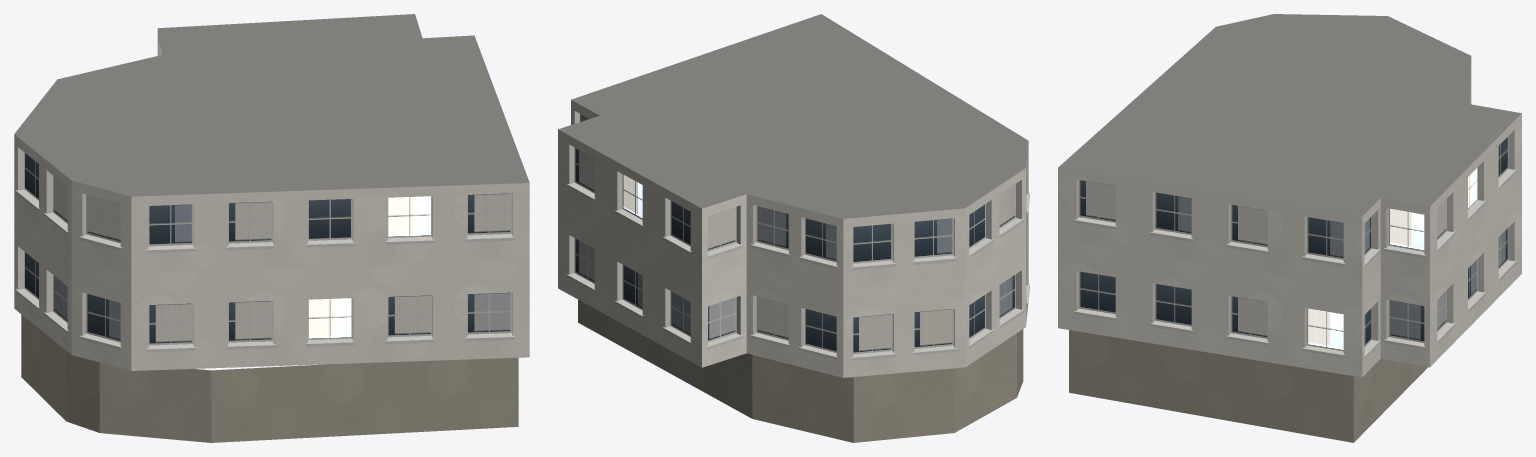
Rendered from z3b_pavilion.glb.
3 renders of one model, left to right at view 1: azimuth 30°, elevation 25°; view 2: azimuth 150°, elevation 25°; view 3: azimuth 270°, elevation 25°, orthographic. The views are drawn at different scales.
Parts seen in each view (by area): view 1: z3b_pavilion; view 2: z3b_pavilion; view 3: z3b_pavilion.
Part boxes in pixels (bbox=[...]): z3b_pavilion: bbox=[14, 14, 529, 442]; z3b_pavilion: bbox=[558, 14, 1029, 442]; z3b_pavilion: bbox=[1058, 14, 1521, 442].
Size of the model in its own units: 19.56 by 10.21 by 18.84.
3 materials, 3 textured.
